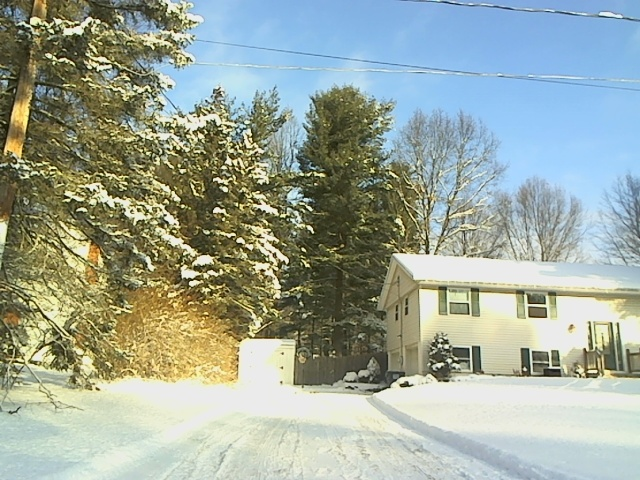Unploughed: (154, 398, 500, 474)
